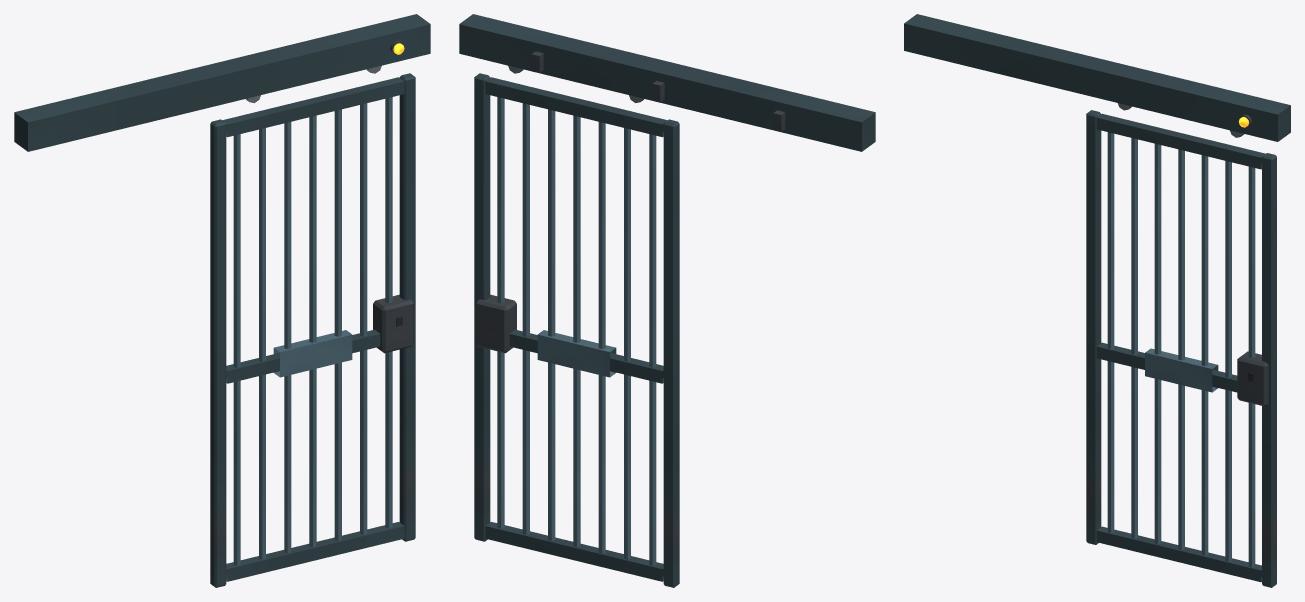
The model's file is cell_door.fbx.
3 views of the same model, side by side, from view 1: azimuth 30°, elevation 25°; view 2: azimuth 150°, elevation 25°; view 3: azimuth 330°, elevation 25° (orthographic). The views are drawn at different scales.
Parts seen in each view (by area): view 1: cell_door_leaf, cell_door; view 2: cell_door_leaf, cell_door; view 3: cell_door_leaf, cell_door.
Boxes of the visible parts, left/top/right/bottom form: cell_door_leaf: left=210, top=65, right=415, bottom=587; cell_door: left=14, top=14, right=430, bottom=151; cell_door_leaf: left=474, top=65, right=679, bottom=587; cell_door: left=459, top=14, right=875, bottom=151; cell_door_leaf: left=1086, top=103, right=1276, bottom=587; cell_door: left=904, top=14, right=1290, bottom=141.
Size of the model in its own units: 2 by 2.45 by 0.194.
Materials: 1 (1 with a texture image).
